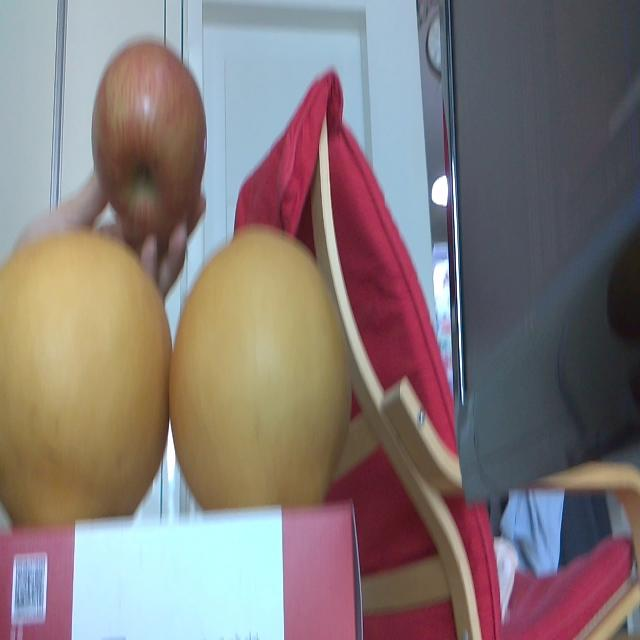apple: (88, 33, 210, 240)
pear: (172, 227, 354, 508), (0, 236, 172, 520)
